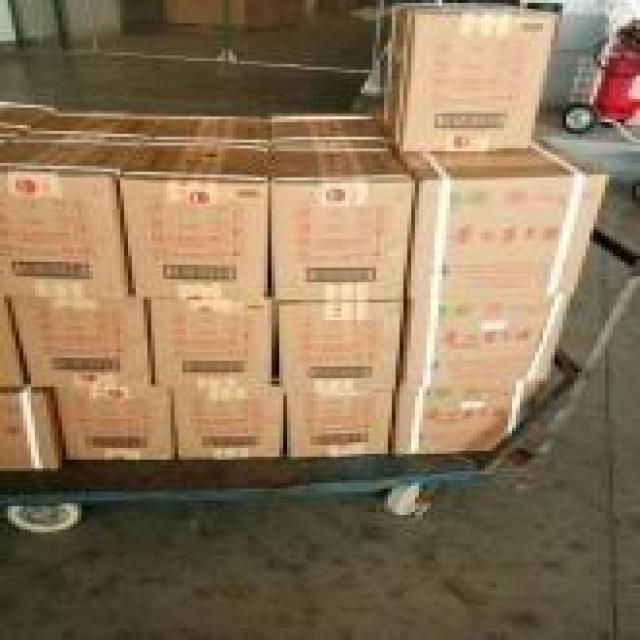box: (118, 104, 280, 302), (265, 100, 408, 302), (0, 102, 138, 306), (408, 143, 581, 295), (388, 0, 538, 154), (387, 279, 574, 383), (4, 280, 152, 394), (145, 286, 274, 398), (270, 290, 408, 392), (54, 374, 180, 471), (396, 377, 540, 461), (173, 377, 290, 467), (283, 379, 401, 466)
